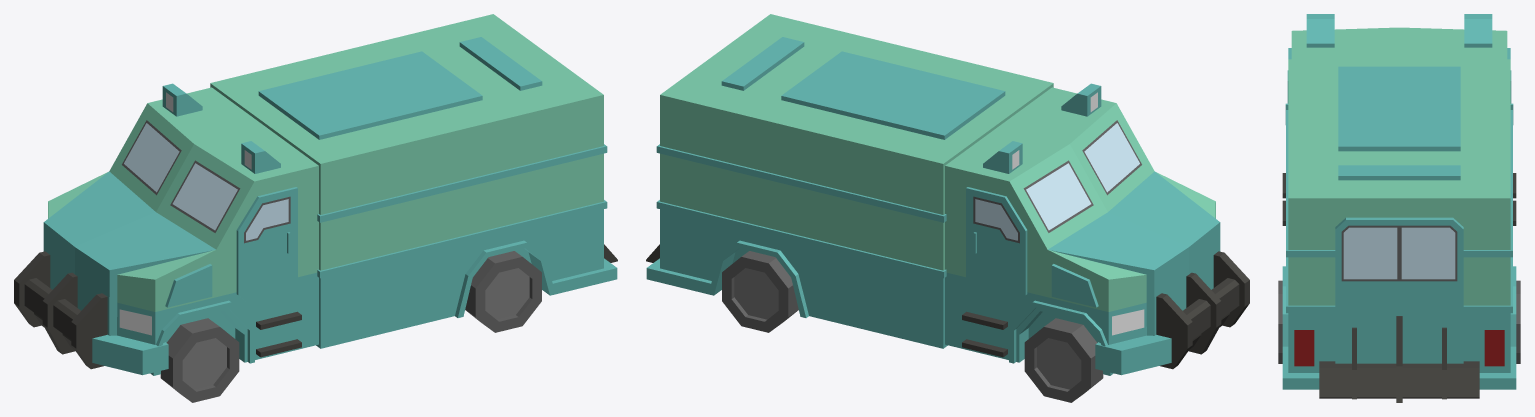
File: Main_Truck_4.fbx
The picture shows the model from 3 angles, left to right: view 1: azimuth 30°, elevation 25°; view 2: azimuth 150°, elevation 25°; view 3: azimuth 270°, elevation 25°; orthographic projection.
Visible parts, largest first — view 1: Main_Truck_4; view 2: Main_Truck_4; view 3: Main_Truck_4.
Boxes of the visible parts, <box> form: Main_Truck_4: <box>14,14,617,402</box>; Main_Truck_4: <box>646,14,1249,402</box>; Main_Truck_4: <box>1278,14,1520,402</box>.
Size of the model in its own units: 10.11 by 3.98 by 3.87.
Materials: 1 (1 with a texture image).
